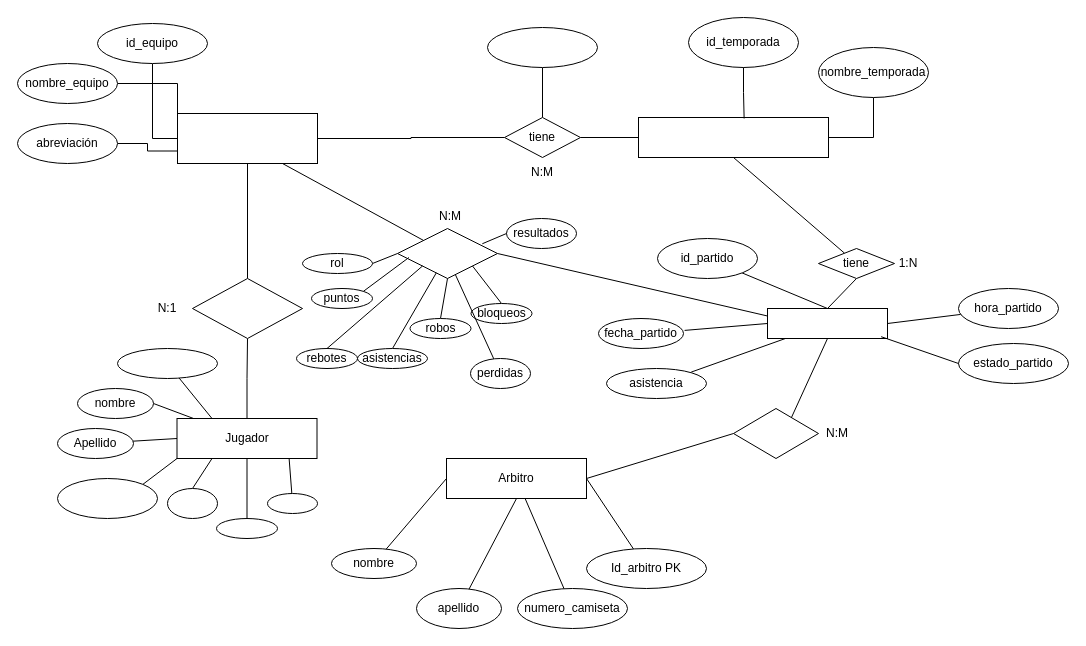
This 1086x646 diagram has some shape labels left out. Each missing label, with the box of its shape:
altura: (216, 518, 278, 538)
arbitra: (732, 408, 818, 458)
Equipo: (176, 112, 318, 164)
fecha_nacimiento: (56, 478, 158, 518)
id_jugador PK: (116, 348, 218, 378)
juega: (396, 228, 498, 278)
pais: (166, 488, 218, 518)
Partido: (766, 308, 888, 338)
pertenece: (192, 278, 302, 338)
peso: (266, 492, 318, 514)
Salario: (486, 26, 598, 68)
Temporada: (638, 116, 828, 158)
